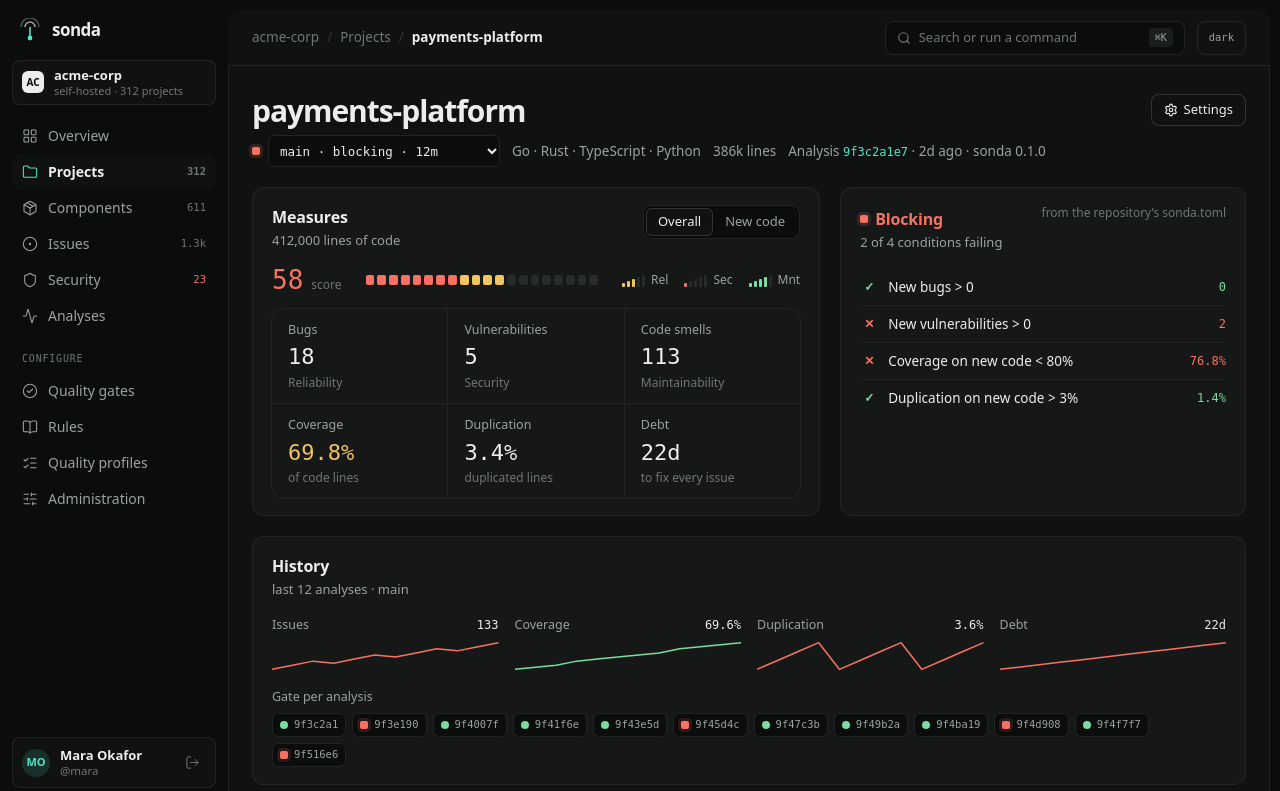
Test: Coverage › opens from the project, then walks directories down to a file’s uncovered lines
Click the link "69.8%": [321, 452] box x1=288 y1=440 x2=354 y2=464
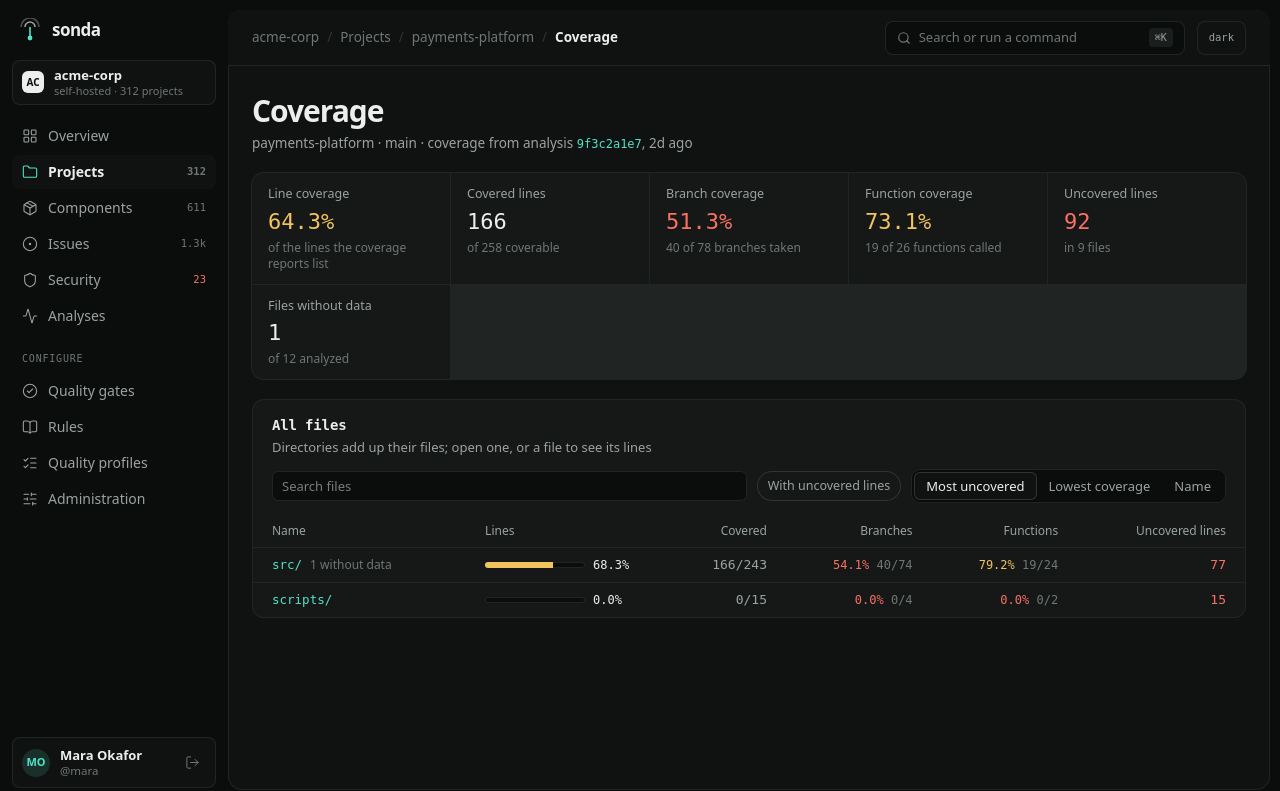
Expected: the heading "Coverage" is shown, x1=252 y1=90 x2=383 y2=131
Expected: the text "1 without data" is shown, x1=310 y1=556 x2=392 y2=573
Click the link "src/": [283, 565] box x1=272 y1=557 x2=302 y2=572
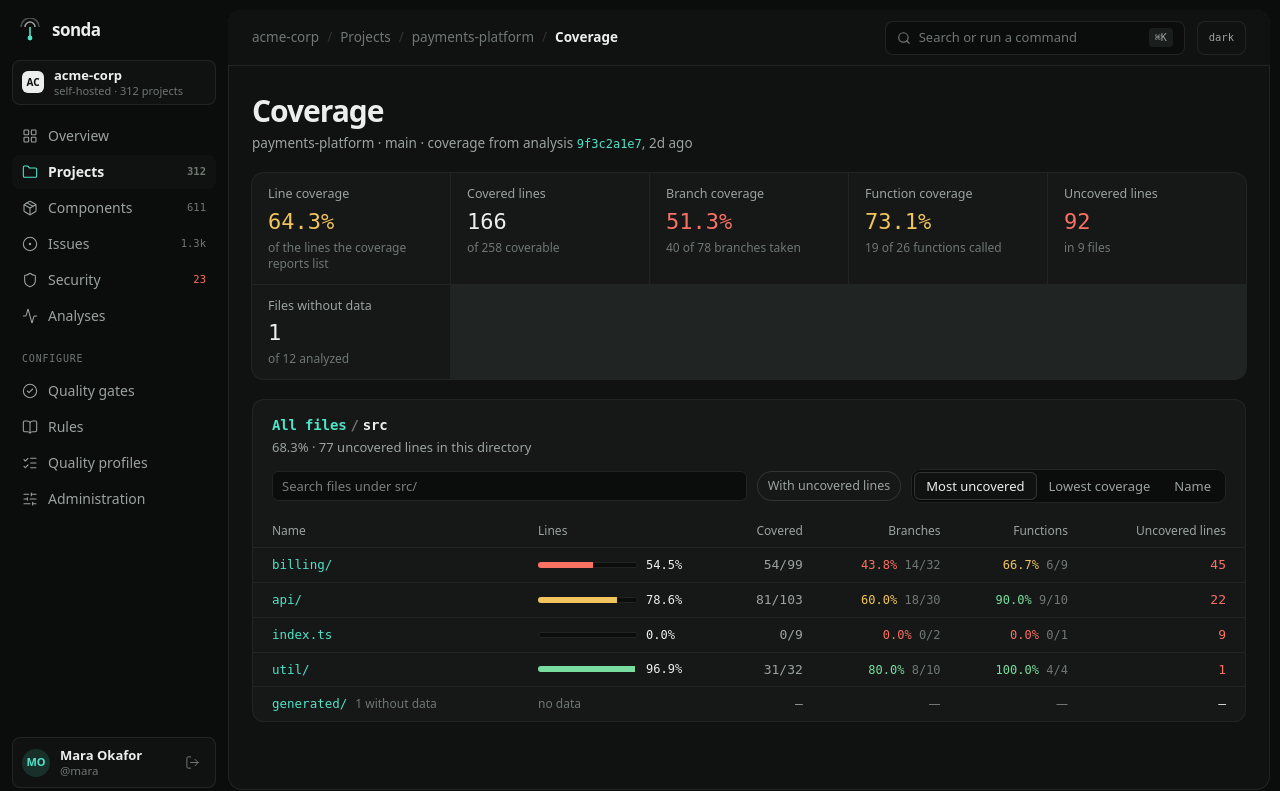
Expected: the navigation bar named "Directory" reads "All files / src", x1=272 y1=417 x2=388 y2=433
Click the button "Name": [1193, 486] box x1=1162 y1=472 x2=1223 y2=500
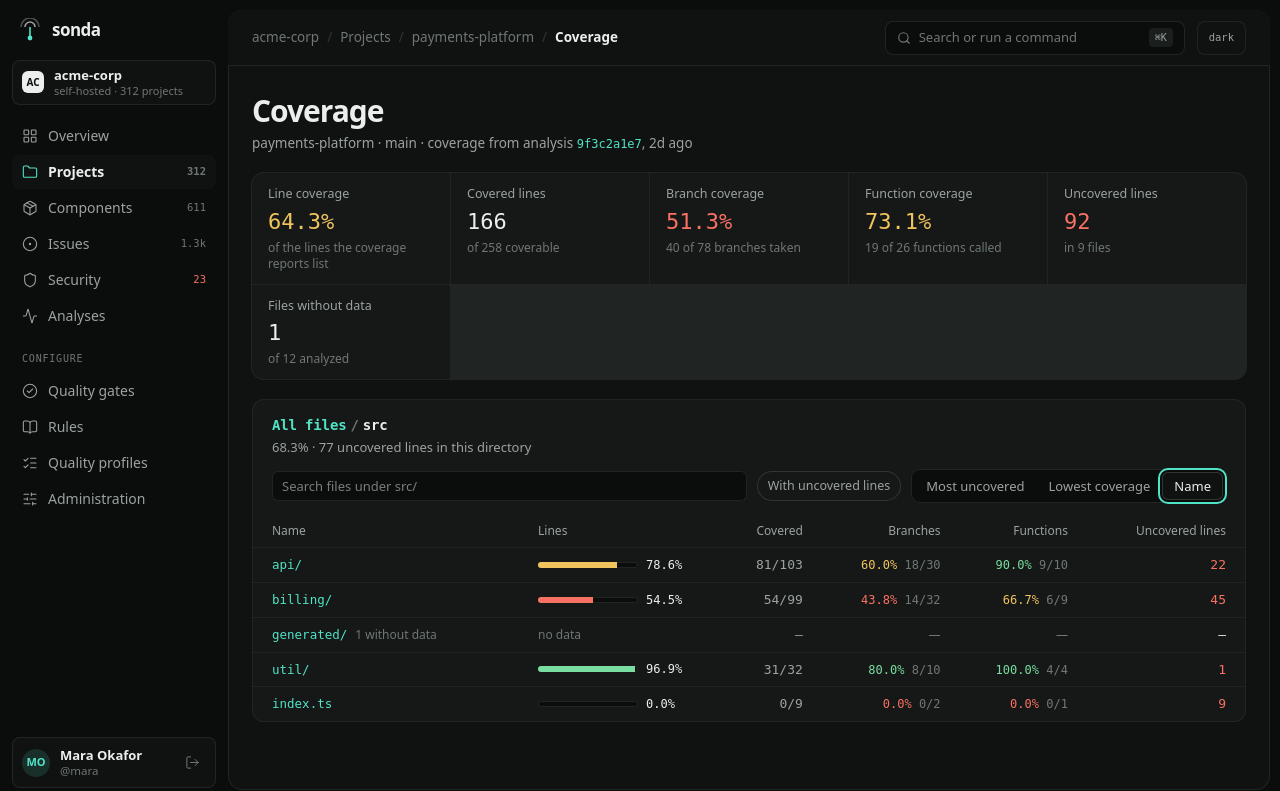
Click the link "billing/": [298, 600] box x1=272 y1=592 x2=332 y2=607
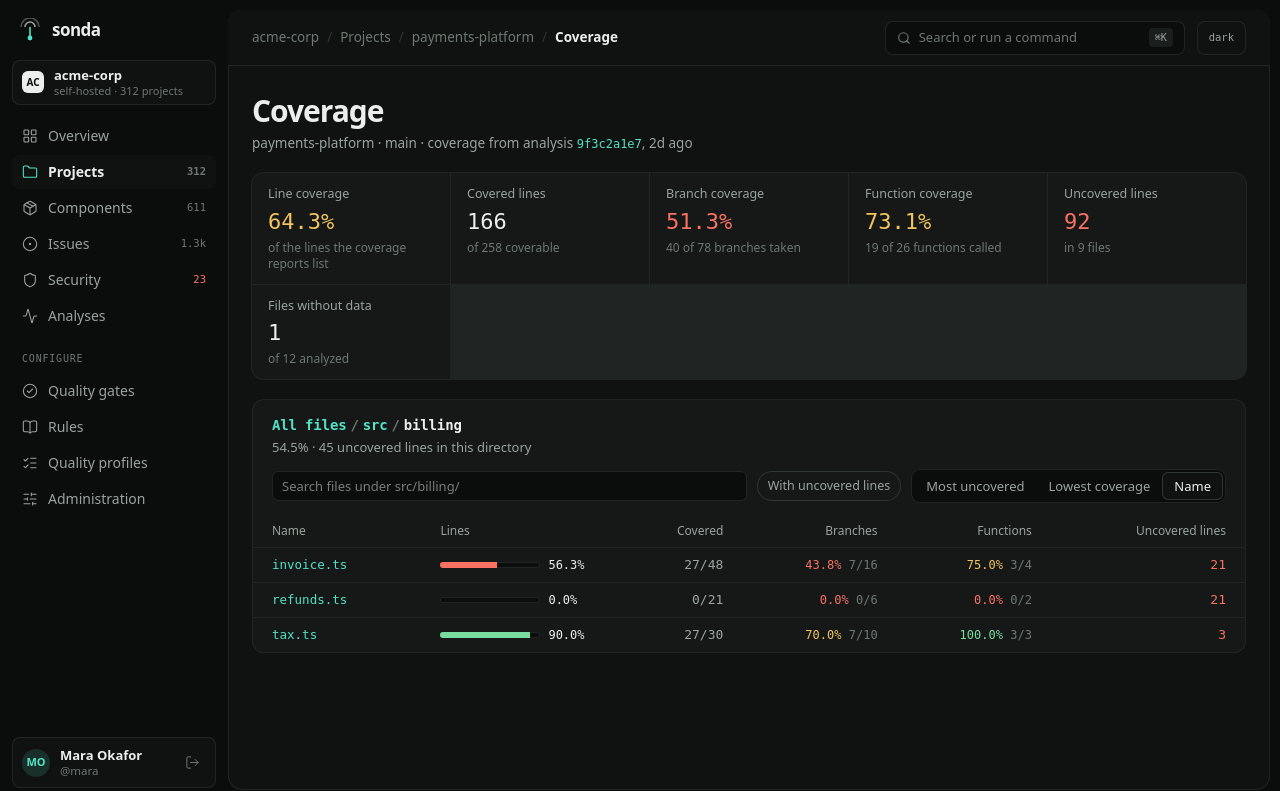
Click the link "refunds.ts": [310, 600] box x1=272 y1=592 x2=347 y2=607
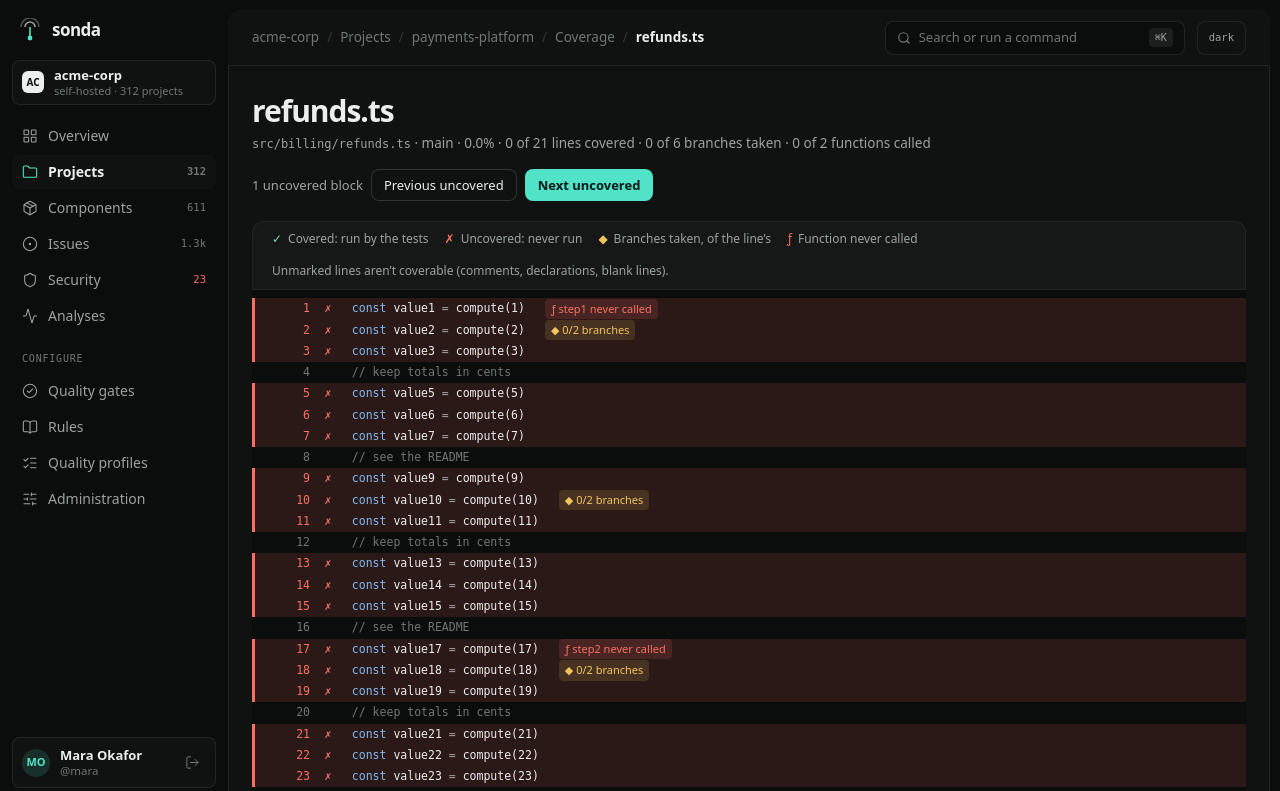
Expected: the heading "refunds.ts" is shown, x1=252 y1=90 x2=394 y2=131
Expected: the text "0.0% · 0 of 21 lines covered" is shown, x1=464 y1=134 x2=635 y2=152
Expected: the text "1 uncovered block" is shown, x1=252 y1=176 x2=363 y2=195
